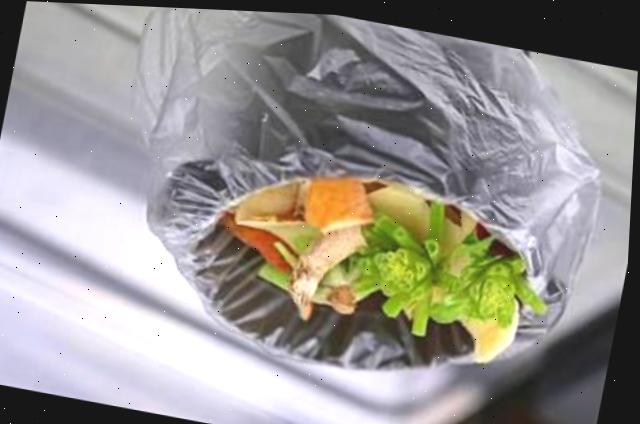Garbage: (225, 174, 551, 357)
